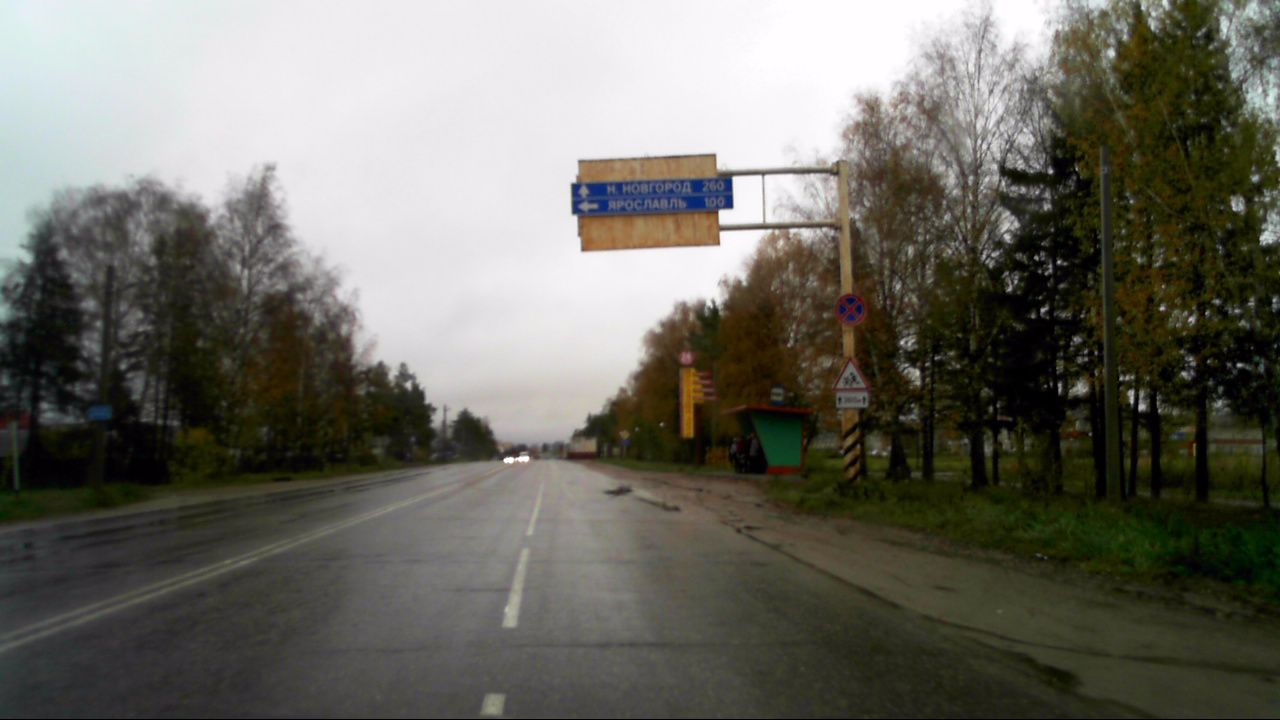No Parking: (831, 291, 869, 327)
